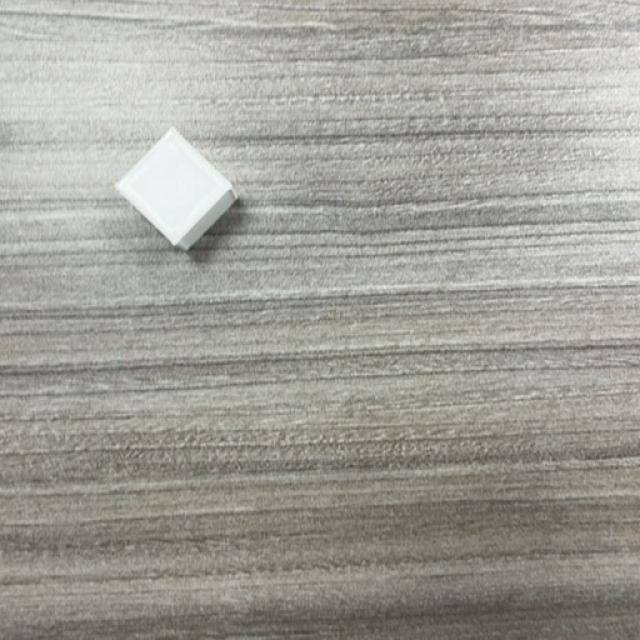Blanco: (114, 129, 239, 251)
